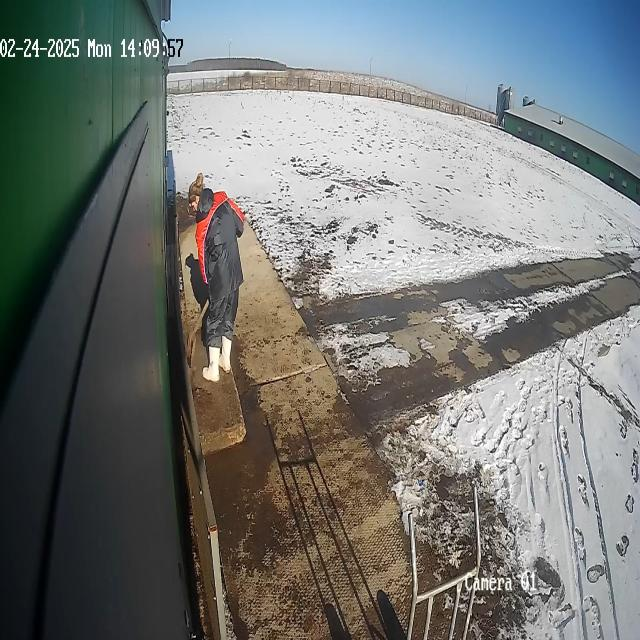Red uniform: (185, 184, 246, 385)
